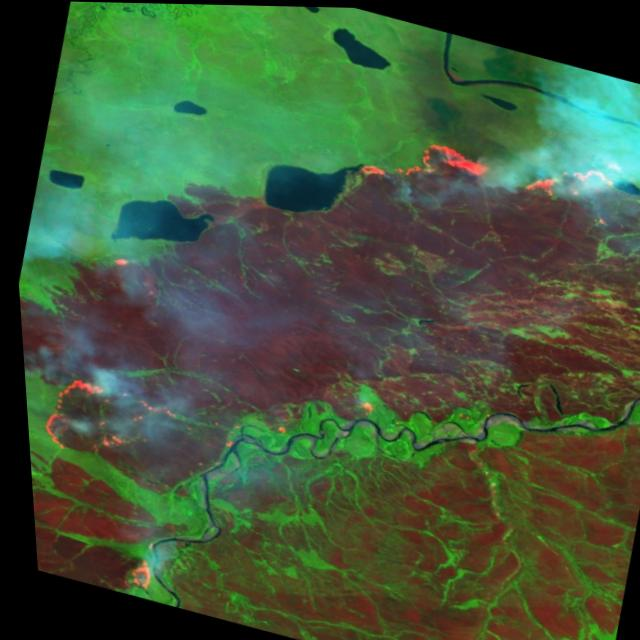fire: (339, 89, 640, 278), (18, 348, 181, 483), (105, 549, 169, 604)
